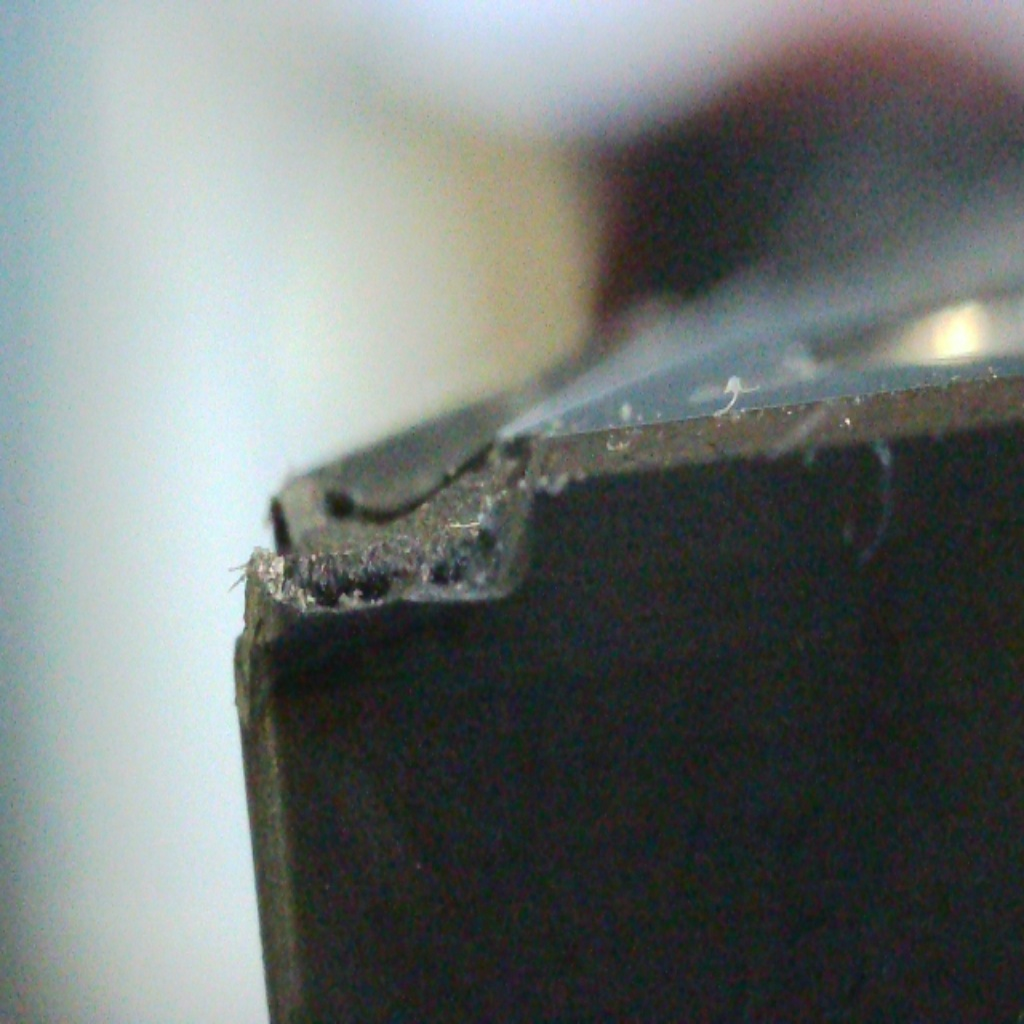flank_wear: (249, 528, 528, 622)
